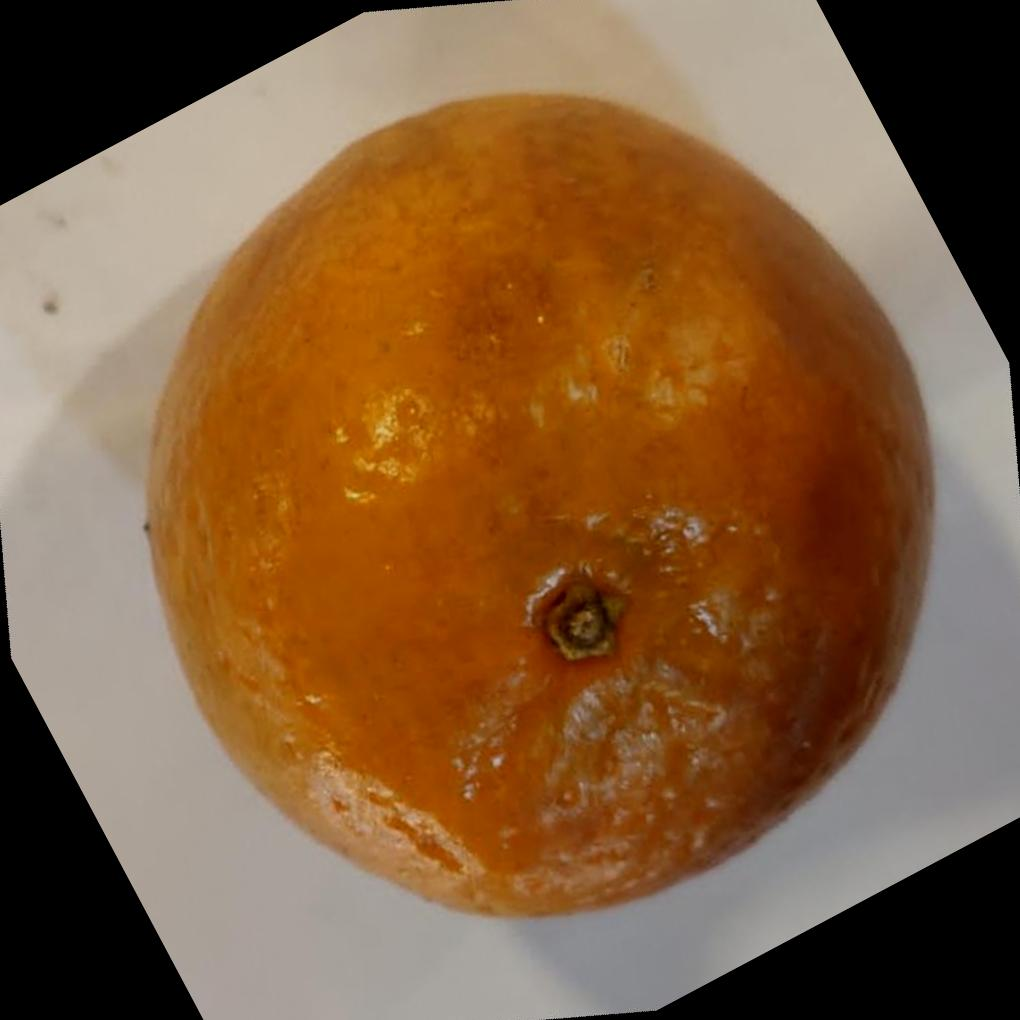FreshOrange: (144, 86, 940, 920)
